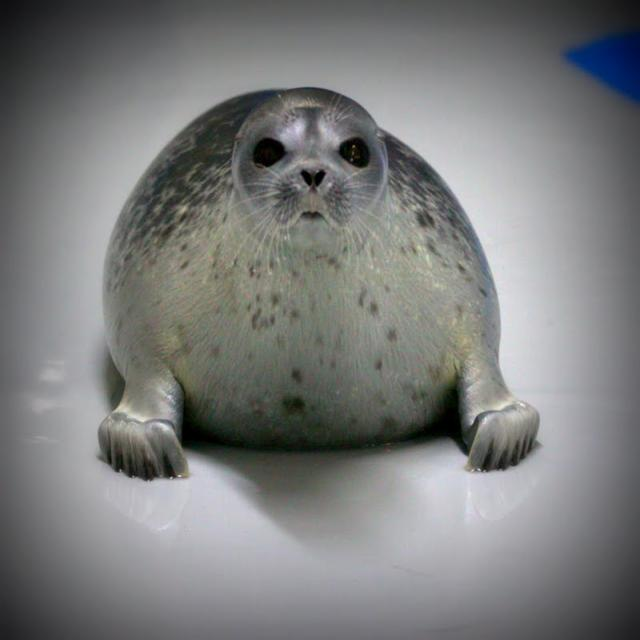WaterDog: (85, 85, 542, 491)
